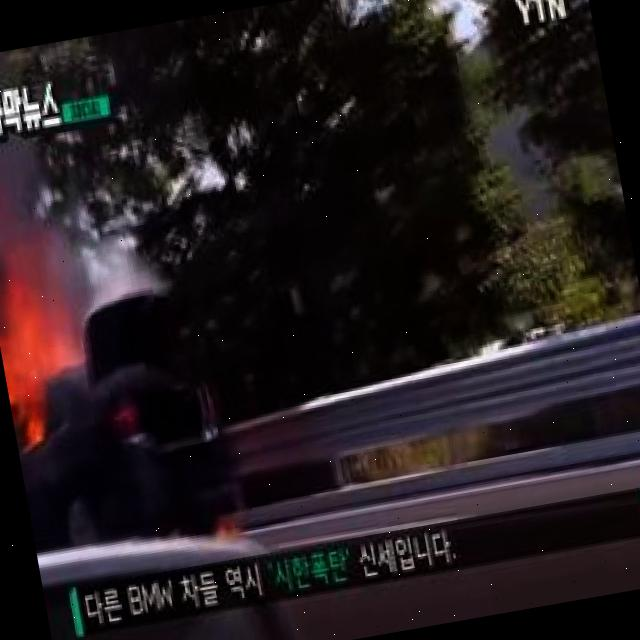fire: (0, 262, 97, 454)
